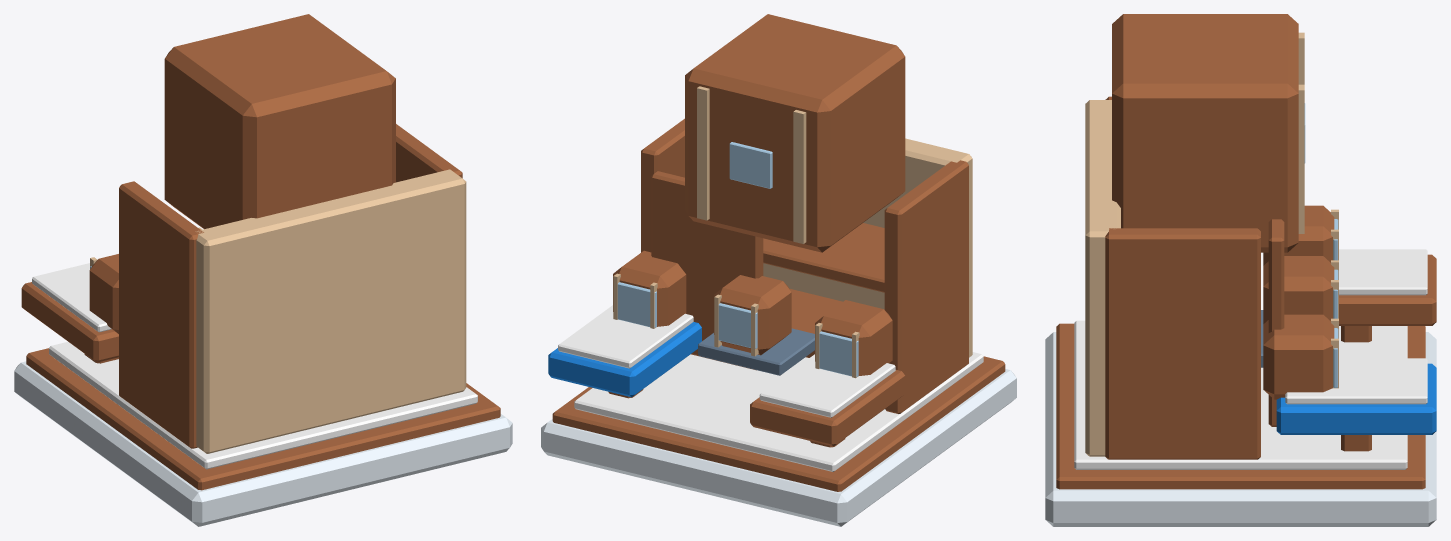
File: Building_Warehouse_1x1_v002.fbx
3 views of the same model, side by side, from view 1: azimuth 30°, elevation 25°; view 2: azimuth 150°, elevation 25°; view 3: azimuth 270°, elevation 25° (orthographic). The views are drawn at different scales.
Parts seen in each view (by area): view 1: FixedShell, OutputItemMesh; view 2: FixedShell, WorkingPartMesh, ProcessFinishedMesh, OutputItemMesh, InputItemMesh, SecondaryToolMesh; view 3: FixedShell, InputItemMesh, ProcessFinishedMesh, WorkingPartMesh, OutputItemMesh.
Part boxes in pixels (x1,y1,x2,y2): FixedShell: (14, 14, 512, 526); OutputItemMesh: (89, 254, 118, 333); FixedShell: (541, 14, 1016, 526); WorkingPartMesh: (651, 171, 763, 370); ProcessFinishedMesh: (714, 275, 791, 356); OutputItemMesh: (815, 300, 892, 378); InputItemMesh: (613, 250, 686, 328); SecondaryToolMesh: (698, 328, 814, 375); FixedShell: (1045, 14, 1436, 526); InputItemMesh: (1263, 314, 1338, 399); ProcessFinishedMesh: (1263, 256, 1338, 323); WorkingPartMesh: (1268, 219, 1284, 426); OutputItemMesh: (1263, 205, 1338, 265).
Bounding box in the file's own units: 88 × 99 × 88.
